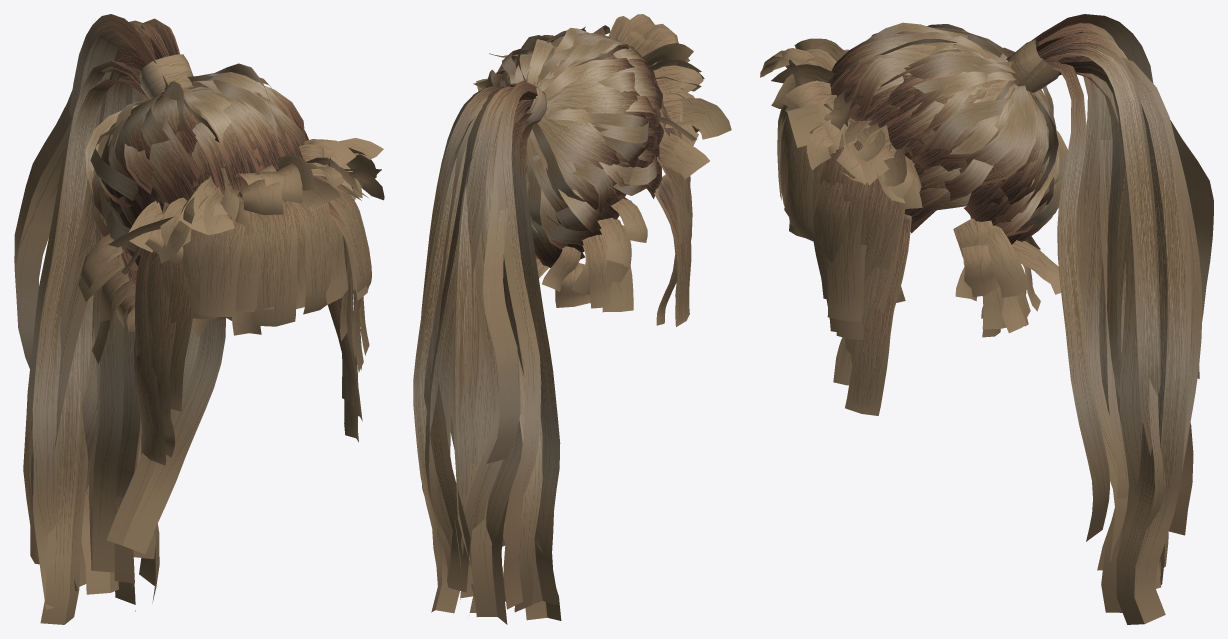
The model's file is Hair14.fbx.
3 renders of one model, left to right at view 1: azimuth 30°, elevation 25°; view 2: azimuth 150°, elevation 25°; view 3: azimuth 270°, elevation 25°, orthographic. The views are drawn at different scales.
Visible parts, largest first — view 1: haircard vol7 hair04; view 2: haircard vol7 hair04; view 3: haircard vol7 hair04.
Boxes of the visible parts, <box> form: haircard vol7 hair04: <box>14,14,384,624</box>; haircard vol7 hair04: <box>413,14,731,624</box>; haircard vol7 hair04: <box>760,14,1213,624</box>.
Bounding box in the file's own units: 26.41 × 54.2 × 37.95.
1 material, 1 textured.
